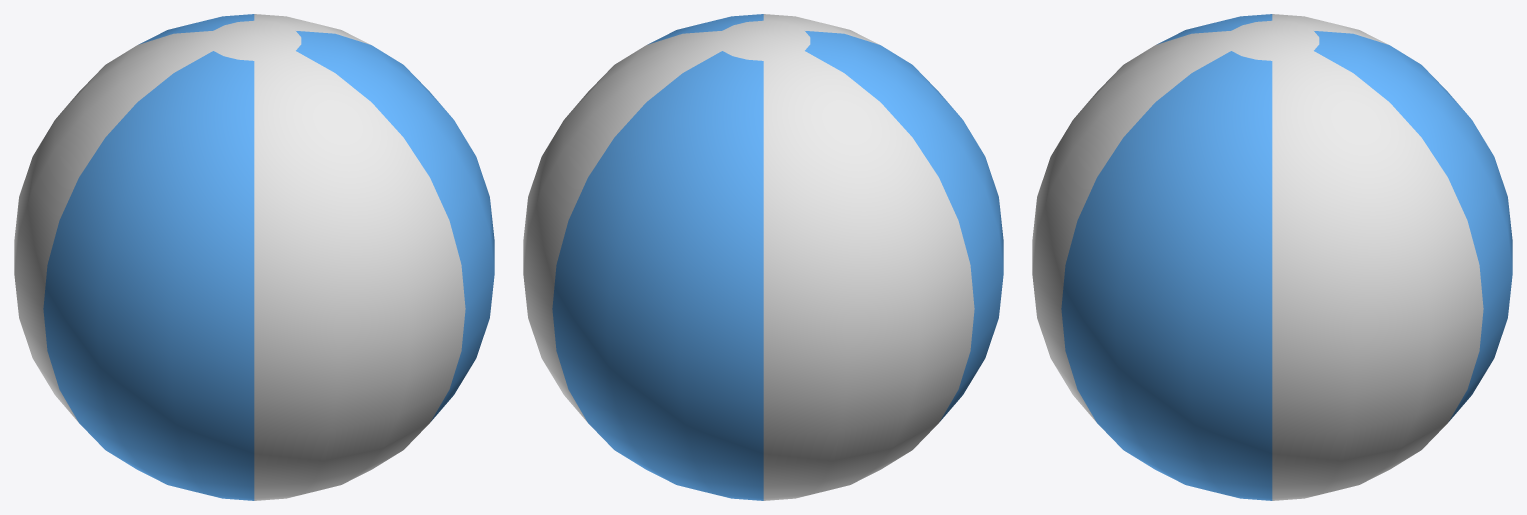
The model's file is ball_teamBlue-col.glb.
3 views of the same model, side by side, from view 1: azimuth 30°, elevation 25°; view 2: azimuth 150°, elevation 25°; view 3: azimuth 270°, elevation 25° (orthographic).
Visible parts, largest first — view 1: ball_teamBlue-col; view 2: ball_teamBlue-col; view 3: ball_teamBlue-col.
Part boxes in pixels (left/top/right/bottom): ball_teamBlue-col: left=14, top=14, right=494, bottom=500; ball_teamBlue-col: left=523, top=14, right=1003, bottom=500; ball_teamBlue-col: left=1032, top=14, right=1512, bottom=500.
Size of the model in its own units: 2 by 2 by 1.97.
